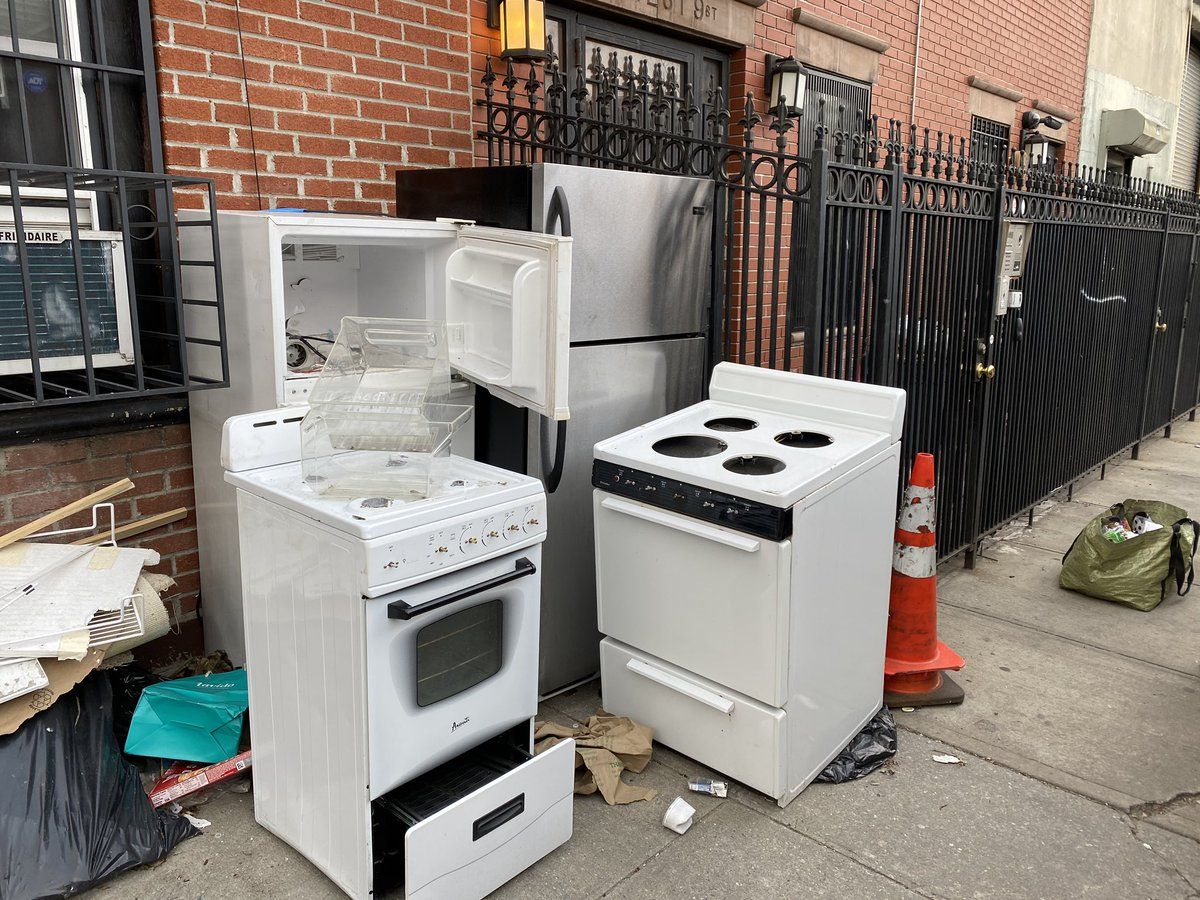building: (625, 1, 1109, 374), (1, 1, 458, 332), (1118, 1, 1200, 337)
traffic cone: (879, 450, 964, 707)
trash: (185, 139, 961, 821)
